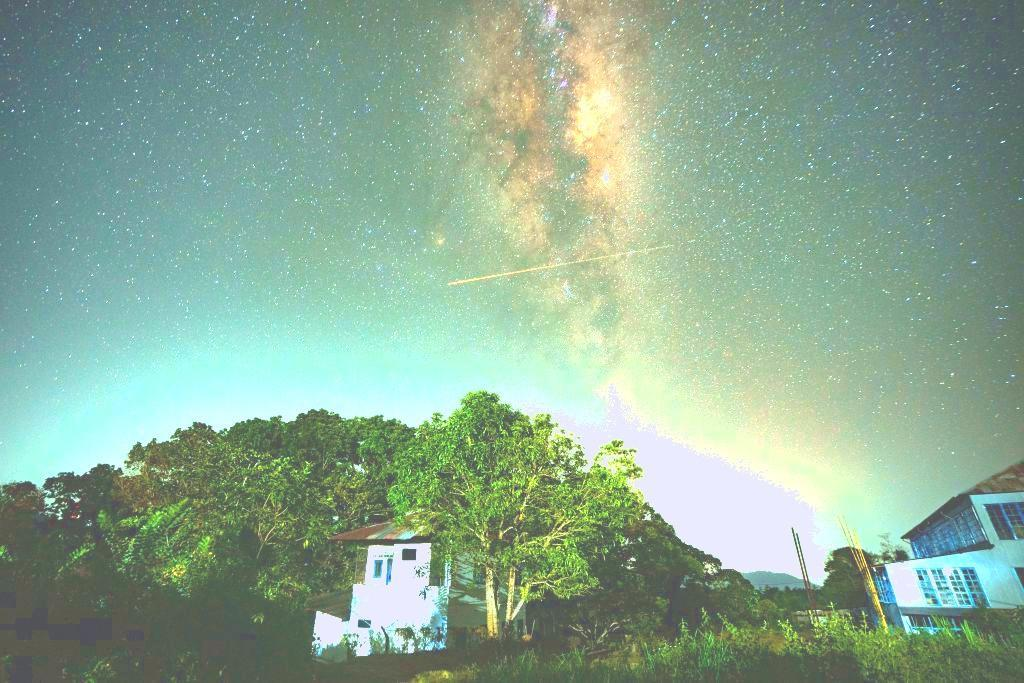meteorite: (430, 257, 580, 294)
